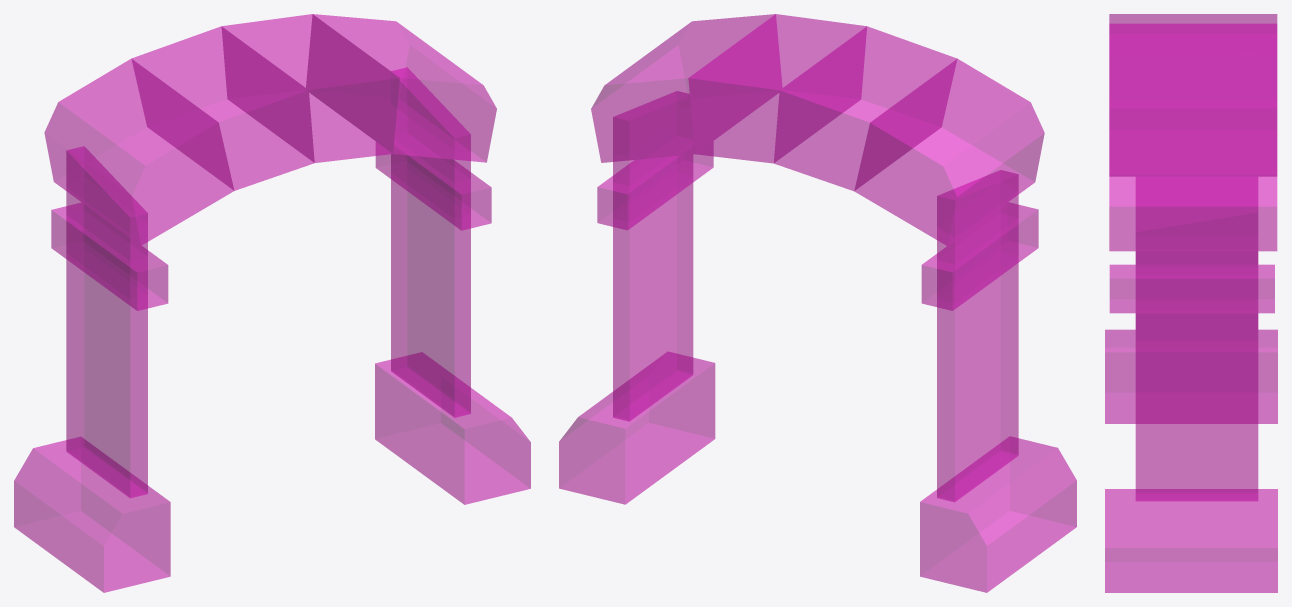
Rendered from SM_Prop_Wedding_Arch_01_Collision.fbx.
3 views of the same model, side by side, from view 1: azimuth 30°, elevation 25°; view 2: azimuth 150°, elevation 25°; view 3: azimuth 270°, elevation 25° (orthographic). The views are drawn at different scales.
Visible parts, largest first — view 1: SM_Prop_Wedding_Arch_01_Collision; view 2: SM_Prop_Wedding_Arch_01_Collision; view 3: SM_Prop_Wedding_Arch_01_Collision.
Part boxes in pixels (x1=…): SM_Prop_Wedding_Arch_01_Collision: x1=14, y1=14, x2=530, y2=592; SM_Prop_Wedding_Arch_01_Collision: x1=559, y1=14, x2=1076, y2=592; SM_Prop_Wedding_Arch_01_Collision: x1=1105, y1=14, x2=1277, y2=592.
Size of the model in its own units: 330 by 332 by 120.
